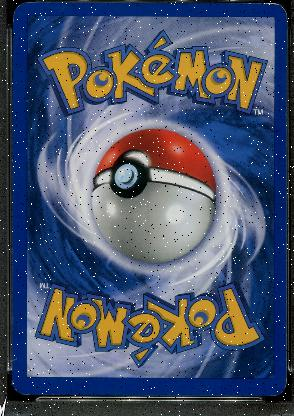Card: (9, 0, 289, 402)
Corner Wear: (265, 1, 288, 25), (8, 380, 33, 398), (267, 378, 288, 398)
Edge Wear: (49, 393, 62, 395)
Scratch: (10, 0, 36, 26), (199, 384, 211, 392), (13, 80, 18, 86), (11, 358, 17, 361)
